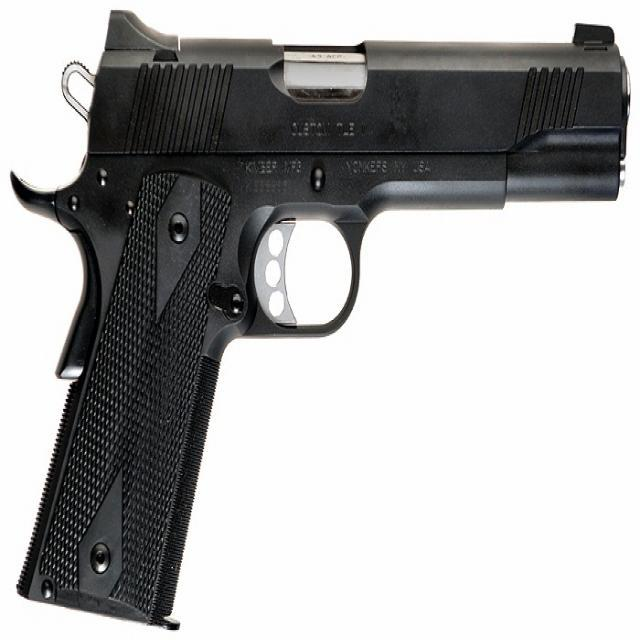gun-knife-thesis - v11 Yolov5 augmented: (5, 7, 631, 637)
